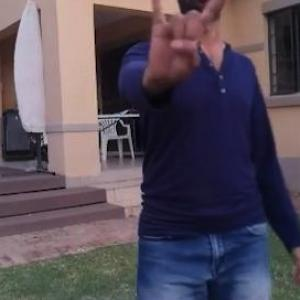takeoff-hand: (141, 0, 234, 96)
